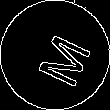M_NW: (22, 23, 88, 87)
